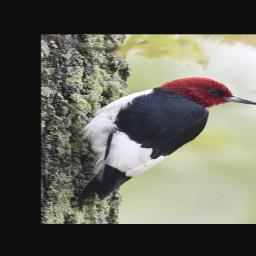Woodpecker: (60, 75, 256, 209)
